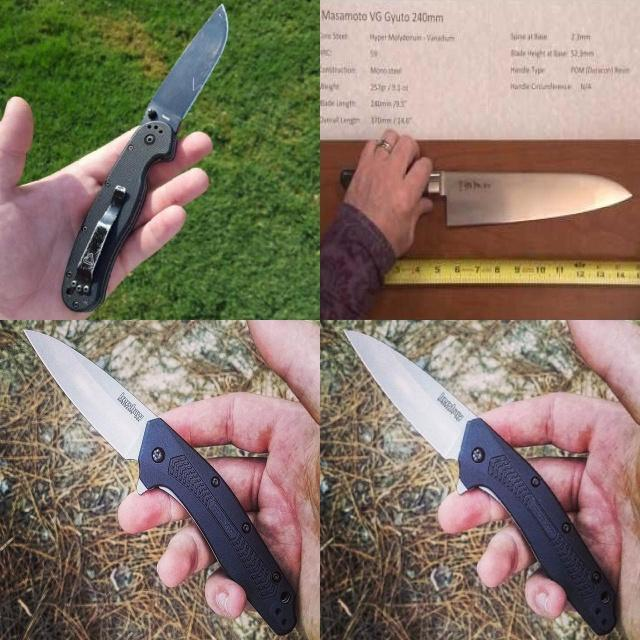-: (337, 321, 619, 639), (17, 321, 298, 639), (55, 2, 285, 313), (380, 125, 633, 228)
